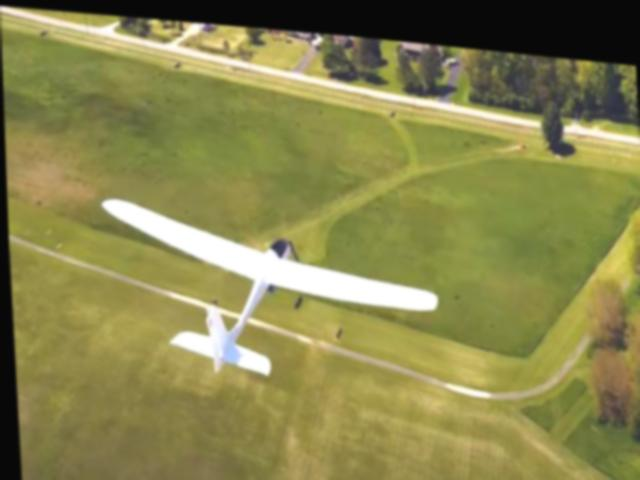iha: (98, 191, 440, 387)
